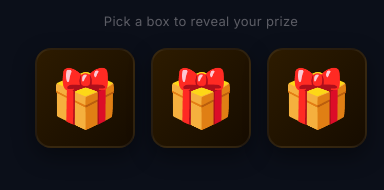
Scenario: Phase 23 Session 8b — animation gates › MysteryBox: button disabled after first pick
This screenshot has width=384, height=190.
Click the element with test id "mystery-box-0" at x=85, y=98, box [35, 48, 135, 148]
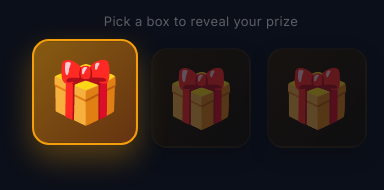
Now the element with test id "mystery-box-0" has attribute data-picked="true", box [32, 38, 138, 144]
